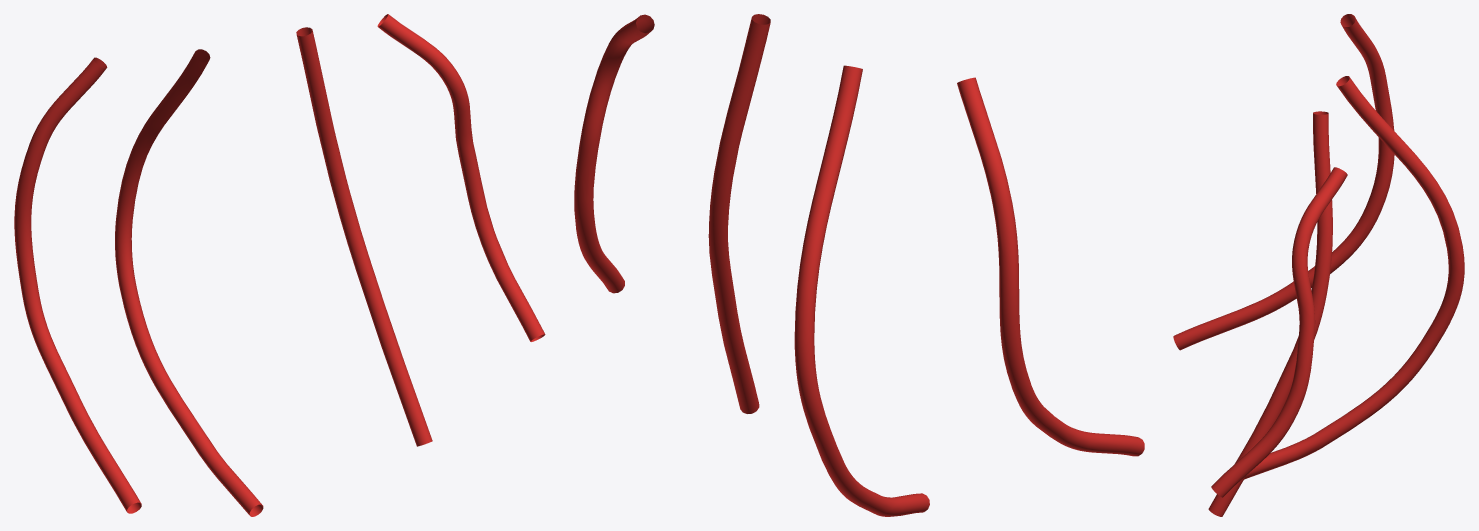
Rendered from circulatorio-palmar-metacarpal-arteries-l.glb.
The picture shows the model from 3 angles, left to right: view 1: azimuth 30°, elevation 25°; view 2: azimuth 150°, elevation 25°; view 3: azimuth 270°, elevation 25°; orthographic projection. The views are drawn at different scales.
Parts seen in each view (by area): view 1: Palmar metacarpal arteries.l; view 2: Palmar metacarpal arteries.l; view 3: Palmar metacarpal arteries.l.
Part boxes in pixels (left/top/right/bottom): Palmar metacarpal arteries.l: left=14, top=14, right=545, bottom=516; Palmar metacarpal arteries.l: left=574, top=14, right=1144, bottom=516; Palmar metacarpal arteries.l: left=1173, top=14, right=1464, bottom=516.
Size of the model in its own units: 0.0421 by 0.0402 by 0.0253.
